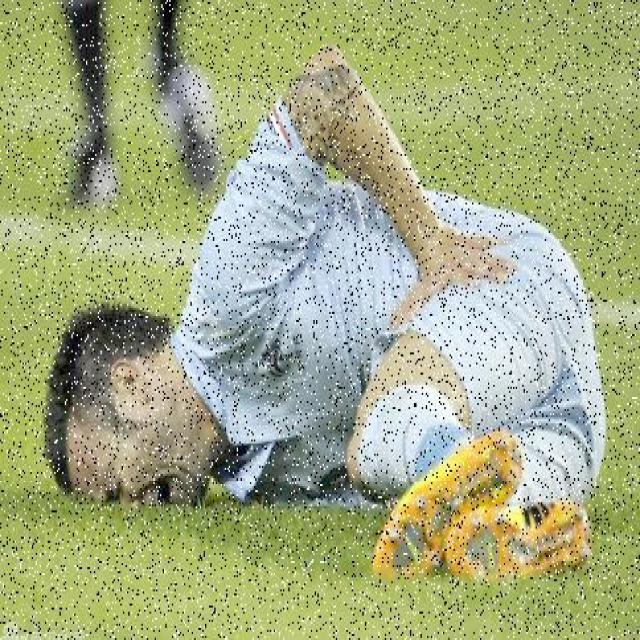fall: (44, 124, 588, 572)
